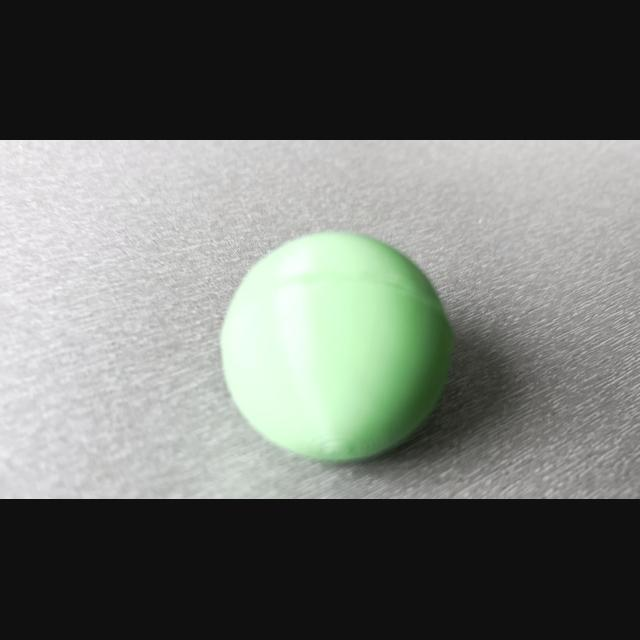objects: (210, 217, 464, 468)
